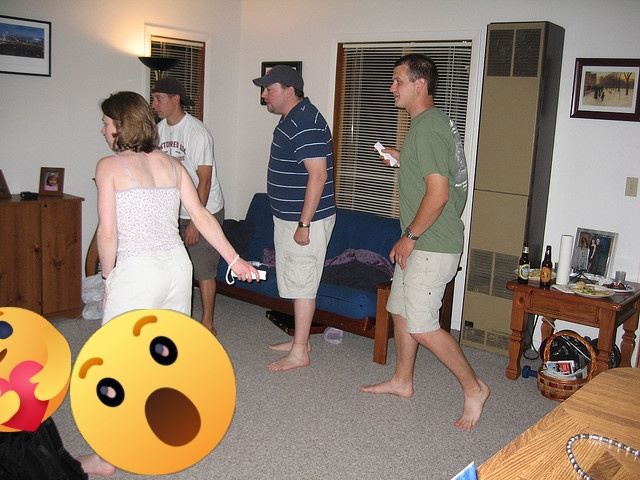care: (0, 307, 71, 432)
wow: (70, 309, 236, 475)
